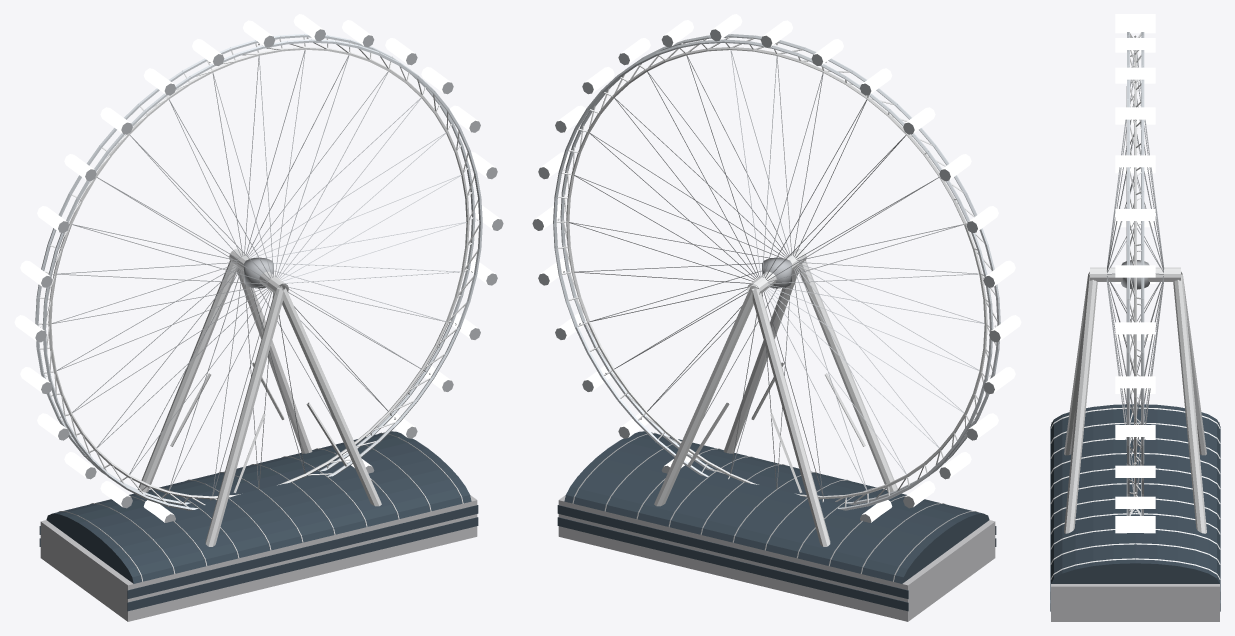
Rendered from singapore_flyer.glb.
3 renders of one model, left to right at view 1: azimuth 30°, elevation 25°; view 2: azimuth 150°, elevation 25°; view 3: azimuth 270°, elevation 25°, orthographic. The views are drawn at different scales.
Parts seen in each view (by area): view 1: terminal, wheel, legs, capsules; view 2: terminal, wheel, legs, capsules; view 3: terminal, wheel, capsules, legs.
Part boxes in pixels (<box>): terminal: <box>39,431,478,621</box>; wheel: <box>35,34,482,510</box>; legs: <box>138,260,381,546</box>; capsules: <box>14,14,503,522</box>; terminal: <box>557,431,996,621</box>; wheel: <box>553,34,1000,510</box>; legs: <box>654,260,897,546</box>; capsules: <box>532,14,1021,522</box>; terminal: <box>1050,404,1220,621</box>; wheel: <box>1090,32,1180,515</box>; capsules: <box>1115,14,1155,533</box>; legs: <box>1064,272,1206,533</box>.
Bounding box in the file's own units: 161 × 170 × 52.4.
